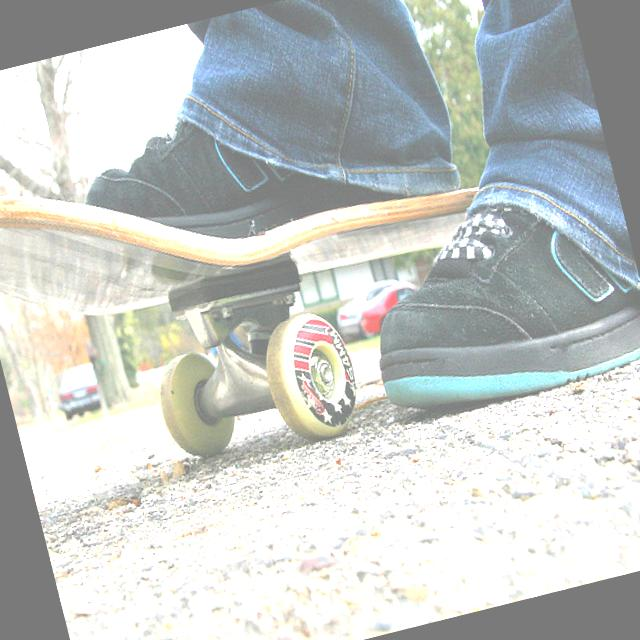Vehicle: (331, 276, 412, 345), (352, 276, 427, 336), (51, 362, 106, 424)
